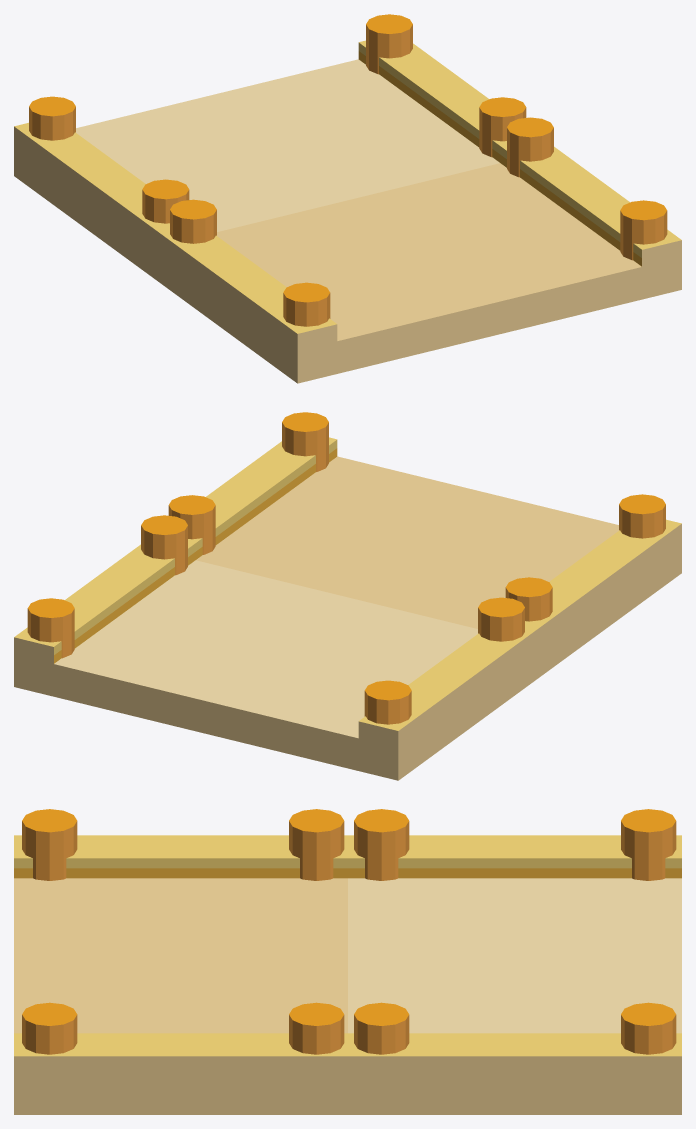
File: road.fbx
3 renders of one model, top to bottom at view 1: azimuth 30°, elevation 25°; view 2: azimuth 150°, elevation 25°; view 3: azimuth 270°, elevation 25°, orthographic. The views are drawn at different scales.
Parts seen in each view (by area): view 1: Cube, Cylinder.006, Cylinder.004, Cylinder.007, Cylinder.002, Cylinder.003, Cylinder, Cylinder.005, Cylinder.001; view 2: Cube, Cylinder.007, Cylinder.005, Cylinder.006, Cylinder.003, Cylinder.001, Cylinder.002, Cylinder.004, Cylinder; view 3: Cube, Cylinder.002, Cylinder.003, Cylinder, Cylinder.001, Cylinder.007, Cylinder.006, Cylinder.004, Cylinder.005.
Part boxes in pixels (x1=…): Cube: x1=14, y1=40, x2=681, y2=383; Cylinder.006: x1=620, y1=200, x2=667, y2=260; Cylinder.004: x1=507, y1=117, x2=553, y2=177; Cylinder.007: x1=366, y1=14, x2=412, y2=74; Cylinder.002: x1=283, y1=282, x2=330, y2=326; Cylinder.003: x1=29, y1=96, x2=75, y2=140; Cylinder: x1=170, y1=199, x2=216, y2=243; Cylinder.005: x1=479, y1=97, x2=526, y2=157; Cylinder.001: x1=142, y1=179, x2=189, y2=223; Cube: x1=14, y1=437, x2=681, y2=780; Cylinder.007: x1=27, y1=598, x2=74, y2=658; Cylinder.005: x1=141, y1=515, x2=187, y2=575; Cylinder.006: x1=282, y1=412, x2=328, y2=471; Cylinder.003: x1=364, y1=680, x2=411, y2=724; Cylinder.001: x1=478, y1=597, x2=524, y2=641; Cylinder.002: x1=619, y1=494, x2=665, y2=538; Cylinder.004: x1=168, y1=495, x2=215, y2=554; Cylinder: x1=505, y1=577, x2=552, y2=621; Cube: x1=14, y1=835, x2=681, y2=1114; Cylinder.002: x1=22, y1=809, x2=77, y2=880; Cylinder.003: x1=621, y1=809, x2=676, y2=880; Cylinder: x1=289, y1=809, x2=344, y2=880; Cylinder.001: x1=354, y1=809, x2=409, y2=880; Cylinder.007: x1=621, y1=1002, x2=676, y2=1054; Cylinder.006: x1=22, y1=1002, x2=77, y2=1054; Cylinder.004: x1=289, y1=1002, x2=344, y2=1054; Cylinder.005: x1=354, y1=1002, x2=409, y2=1054.
Bounding box in the file's own units: 605 × 111 × 773.
